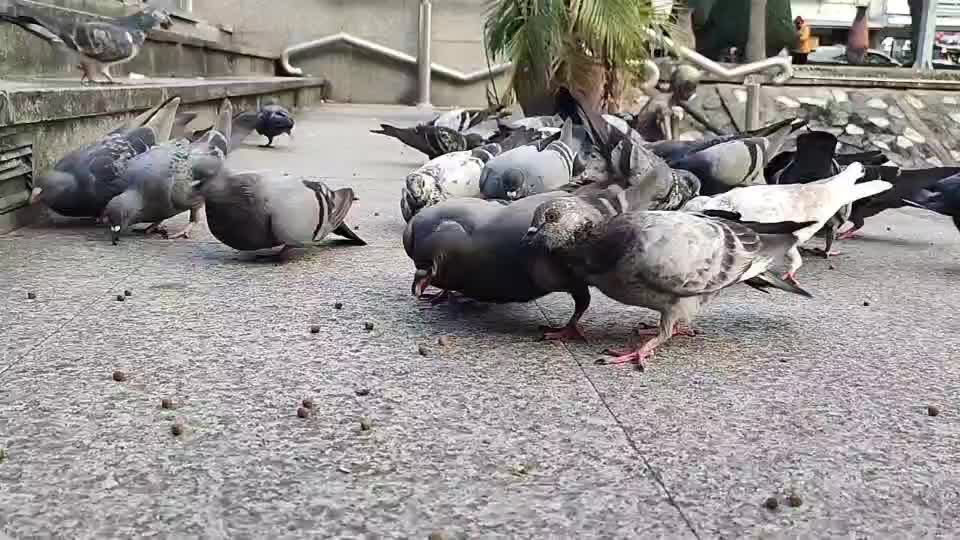Pigeon: (518, 196, 813, 371), (401, 184, 621, 342), (29, 93, 182, 225), (188, 150, 367, 262), (100, 125, 228, 245), (0, 0, 174, 85), (900, 170, 959, 231), (253, 103, 295, 147)
